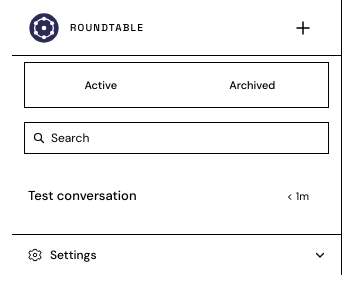
Test: SearchBar — empty state announcement (WCAG 1.3.1) › empty-state message is a <p> inside the conversations nav
The image size is (359, 292).
Type "zzz-no-match" into the search field named "Search conversations" at (190, 138), box left=51, top=129, right=328, bottom=147
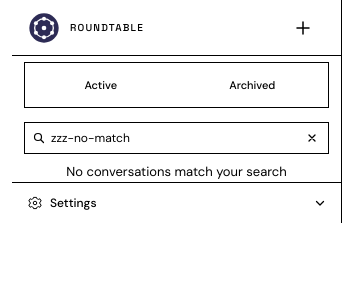
Check: the navigation bar named "Conversations" is shown, box left=12, top=162, right=287, bottom=183
Check: the text "No conversations match your search" is shown, box left=50, top=162, right=303, bottom=182
